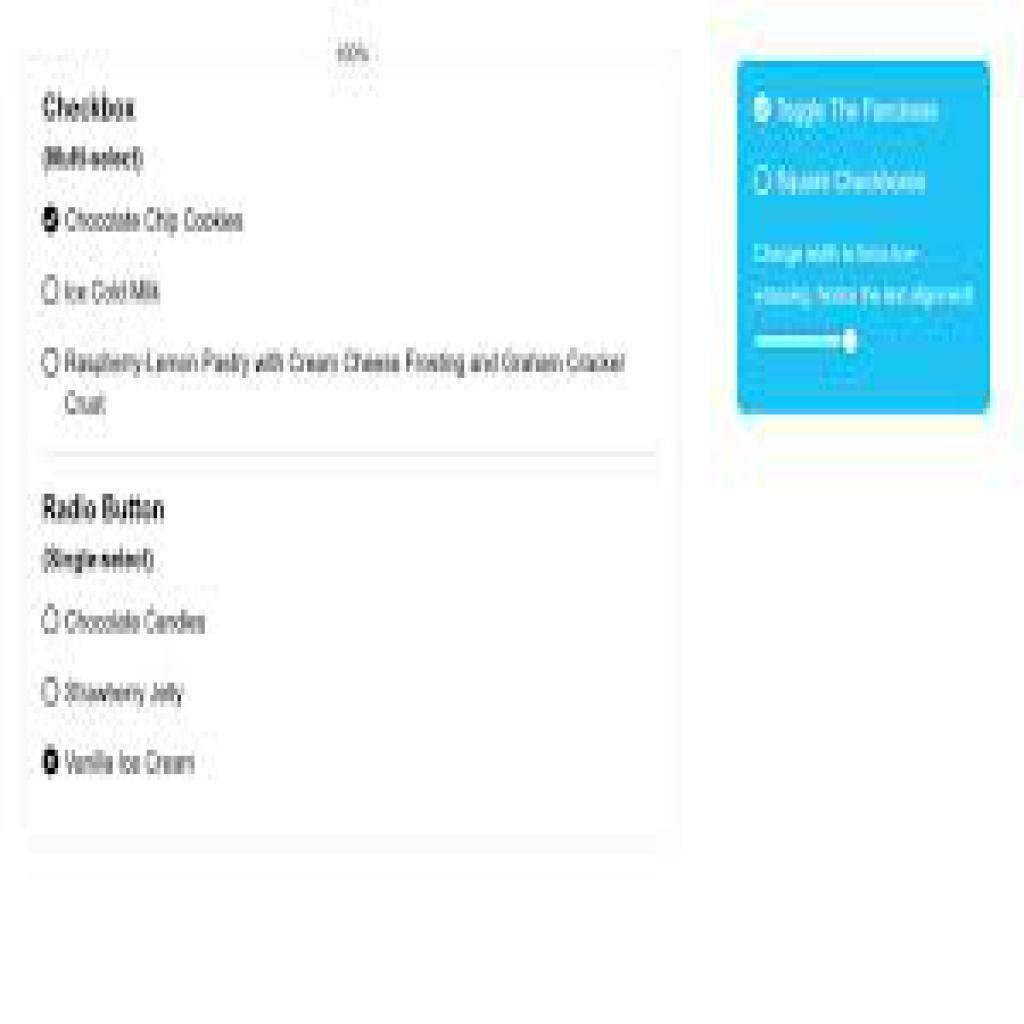checkbox: (39, 269, 64, 311), (40, 344, 61, 382), (42, 200, 62, 238)
radio: (40, 674, 65, 712), (39, 744, 65, 780), (38, 603, 62, 639)
